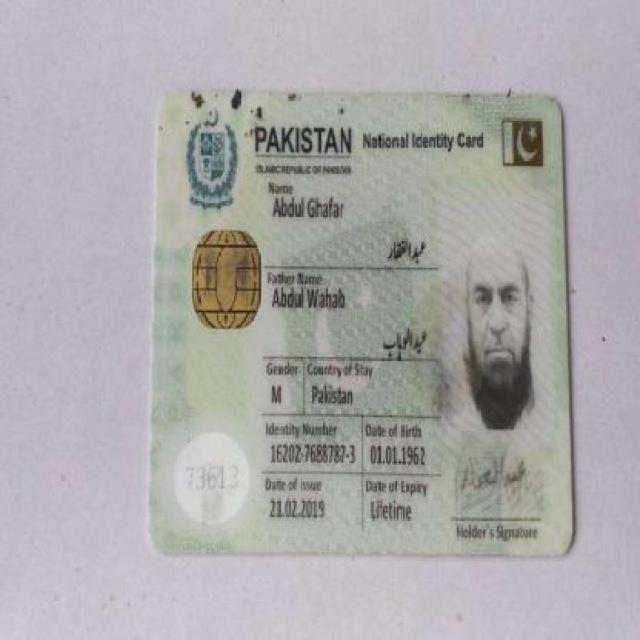Front: (146, 80, 582, 560)
